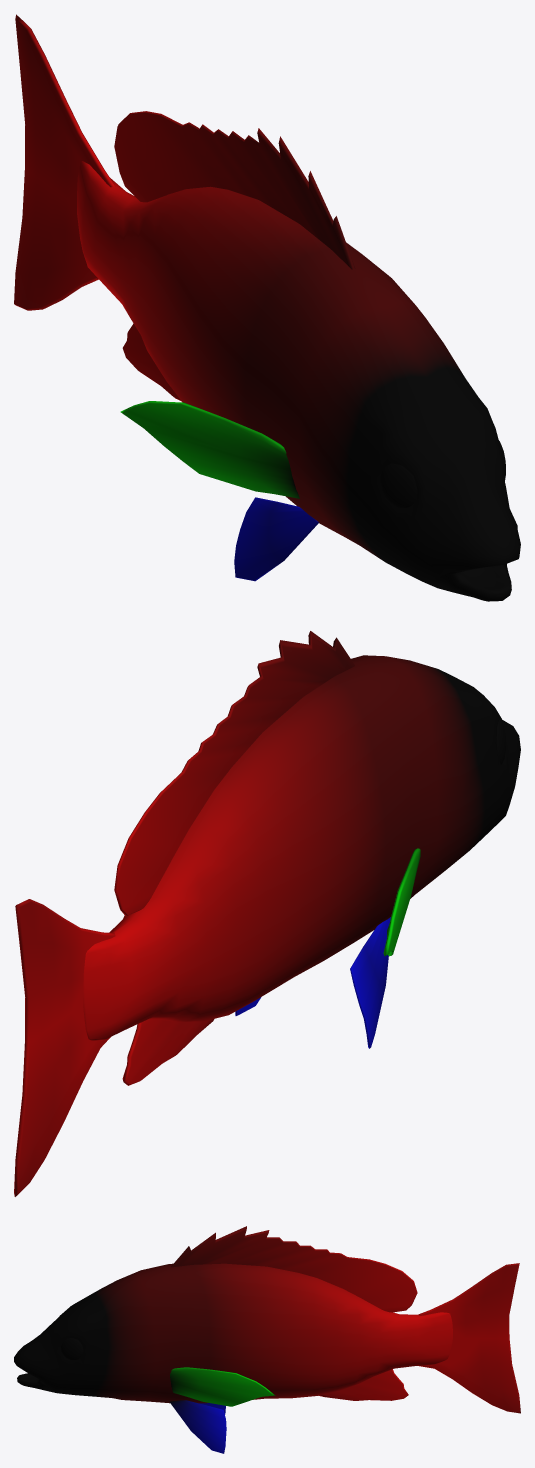
Rendered from greySnapper_vertColor.glb.
3 views of the same model, one above another, from view 1: azimuth 30°, elevation 25°; view 2: azimuth 150°, elevation 25°; view 3: azimuth 270°, elevation 25° (orthographic). The views are drawn at different scales.
Parts seen in each view (by area): view 1: fish_vertColor_low; view 2: fish_vertColor_low; view 3: fish_vertColor_low.
Boxes of the visible parts, x1,y1,x2,y2 form: fish_vertColor_low: (14,14,520,601); fish_vertColor_low: (14,631,520,1196); fish_vertColor_low: (14,1226,520,1453).
Bounding box in the file's own units: 12.55 × 18.45 × 40.16.
